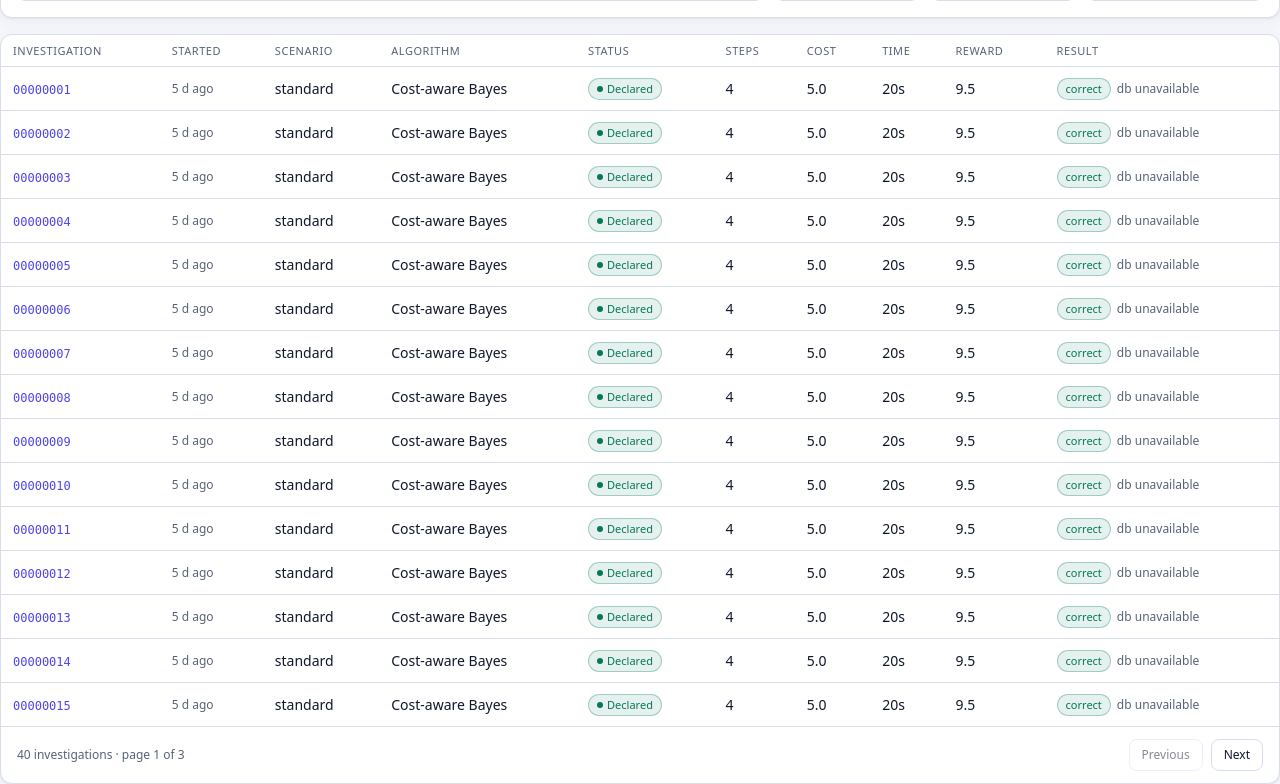
Scenario: Investigations › paginates
This screenshot has width=1280, height=784.
(page scrolled)
Expected: the text "40 investigations · page 1 of 3" is shown, x1=17 y1=748 x2=185 y2=764
Expected: the button "Previous" is disabled, x1=1128 y1=740 x2=1203 y2=772
Click the button "Next": (1237, 756) x1=1211 y1=740 x2=1263 y2=772
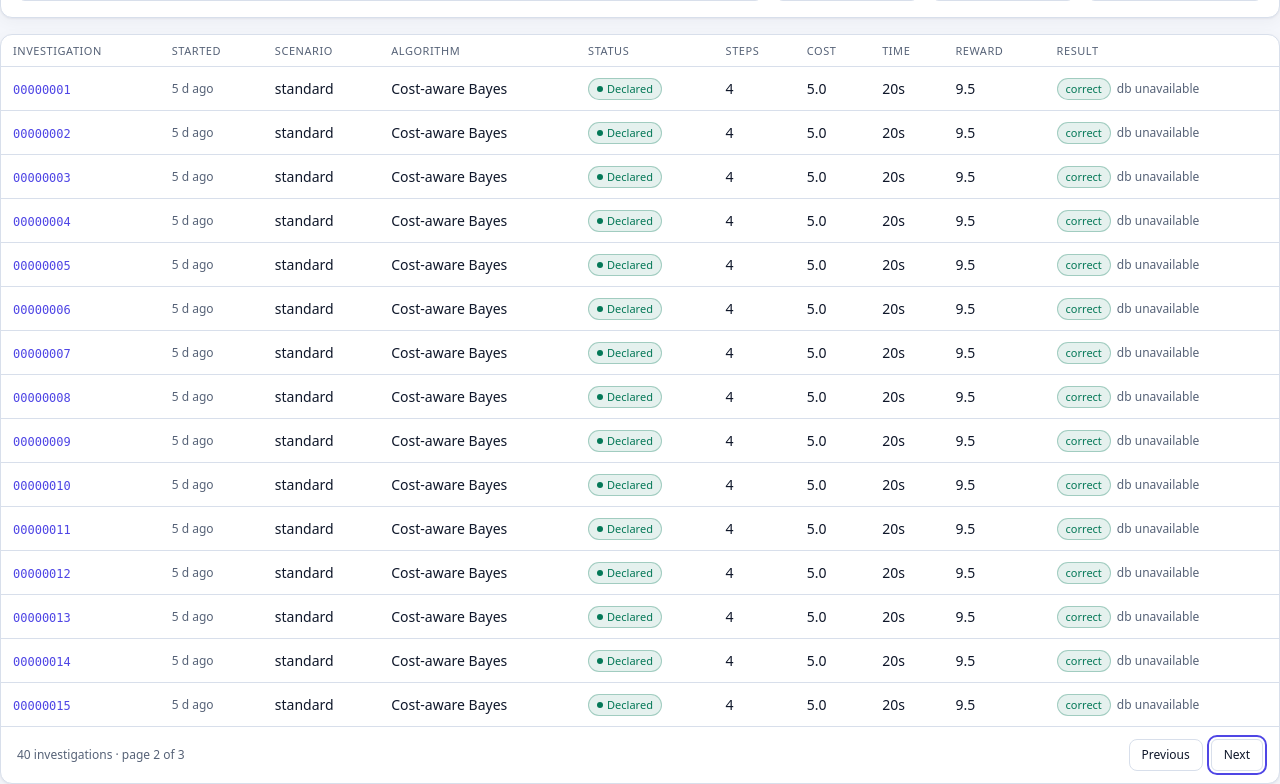
Result: the text "40 investigations · page 2 of 3" is shown at x1=17 y1=748 x2=185 y2=764
